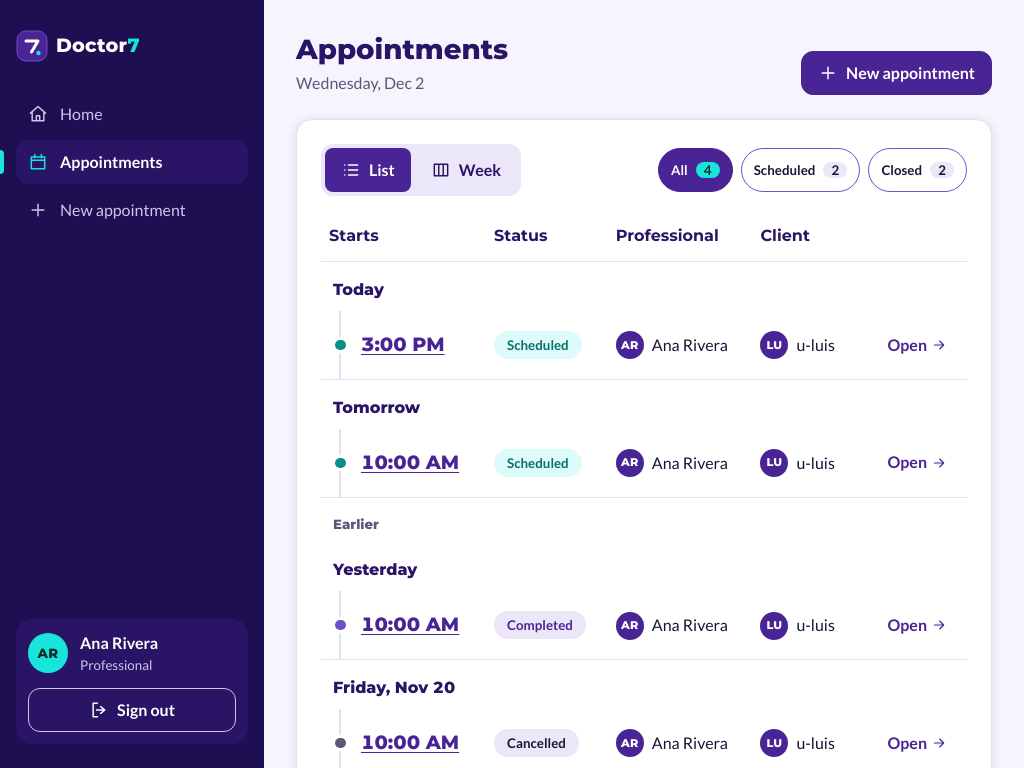
Scenario: Appointments week view › starts on the list, and switches with one button on at a time
Step 1. Click the button "Week" → (466, 170), box [415, 148, 517, 192]
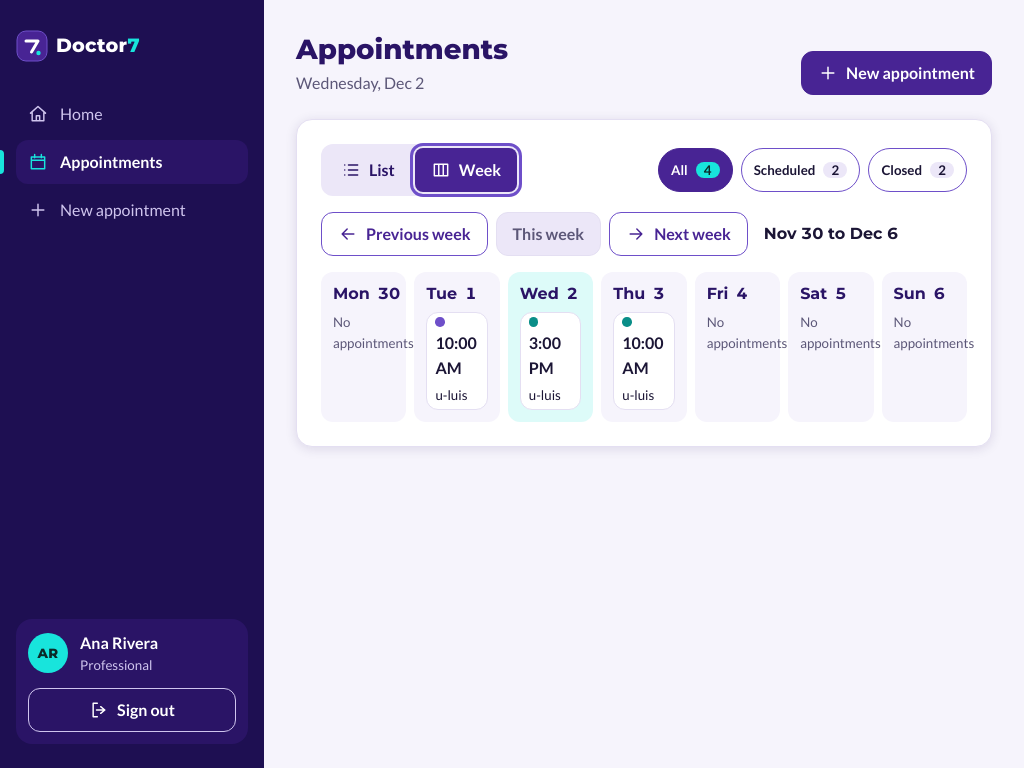
Check: the table is gone
